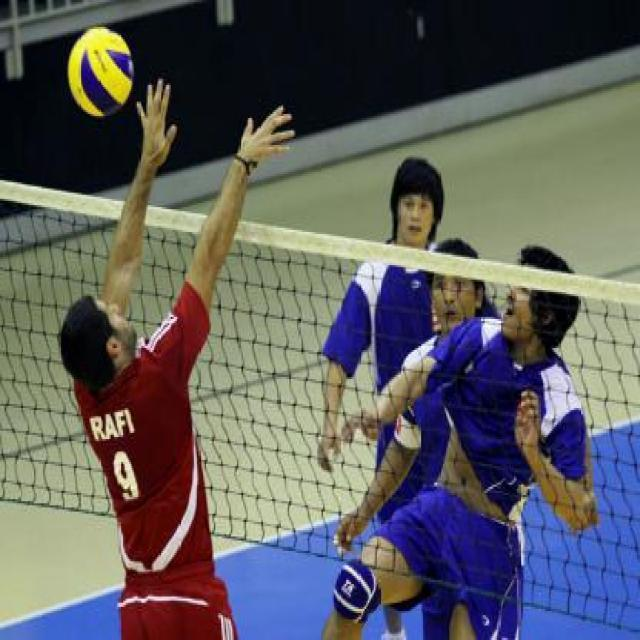volleyball: (66, 28, 132, 116)
